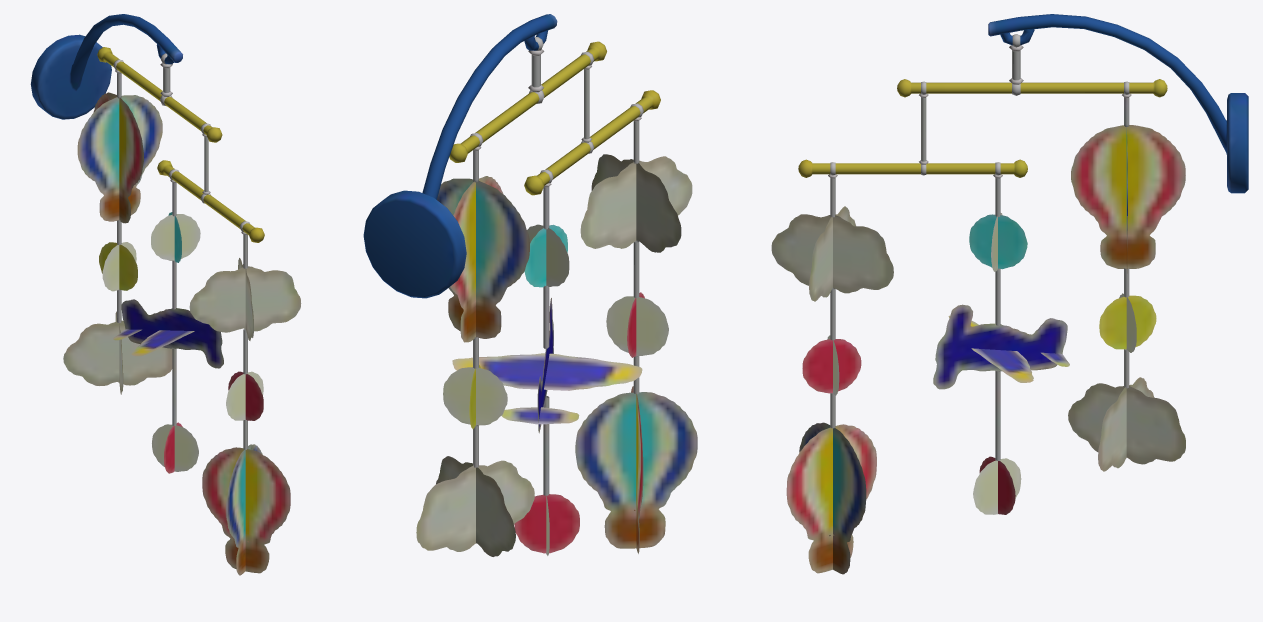
3 views of the same model, side by side, from view 1: azimuth 30°, elevation 25°; view 2: azimuth 150°, elevation 25°; view 3: azimuth 270°, elevation 25° (orthographic). The views are drawn at different scales.
Bounding box in the file's own units: 5.49 × 12.29 × 9.63.
Materials: 1 (1 with a texture image).
